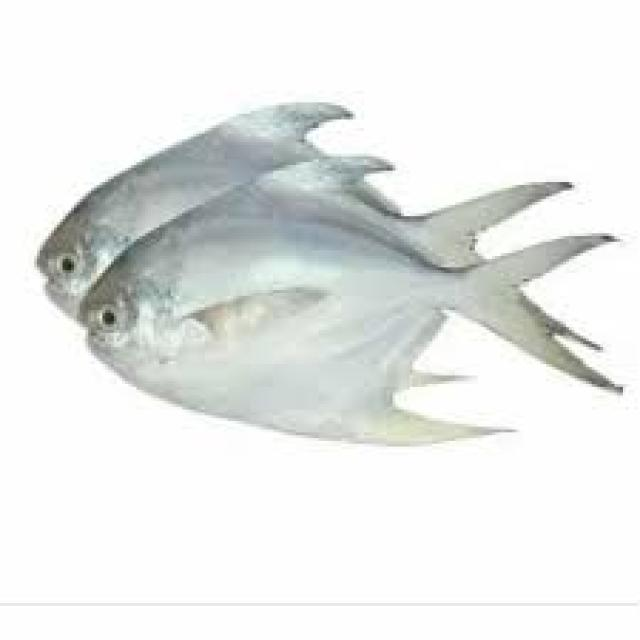pomfred: (75, 158, 628, 445)
